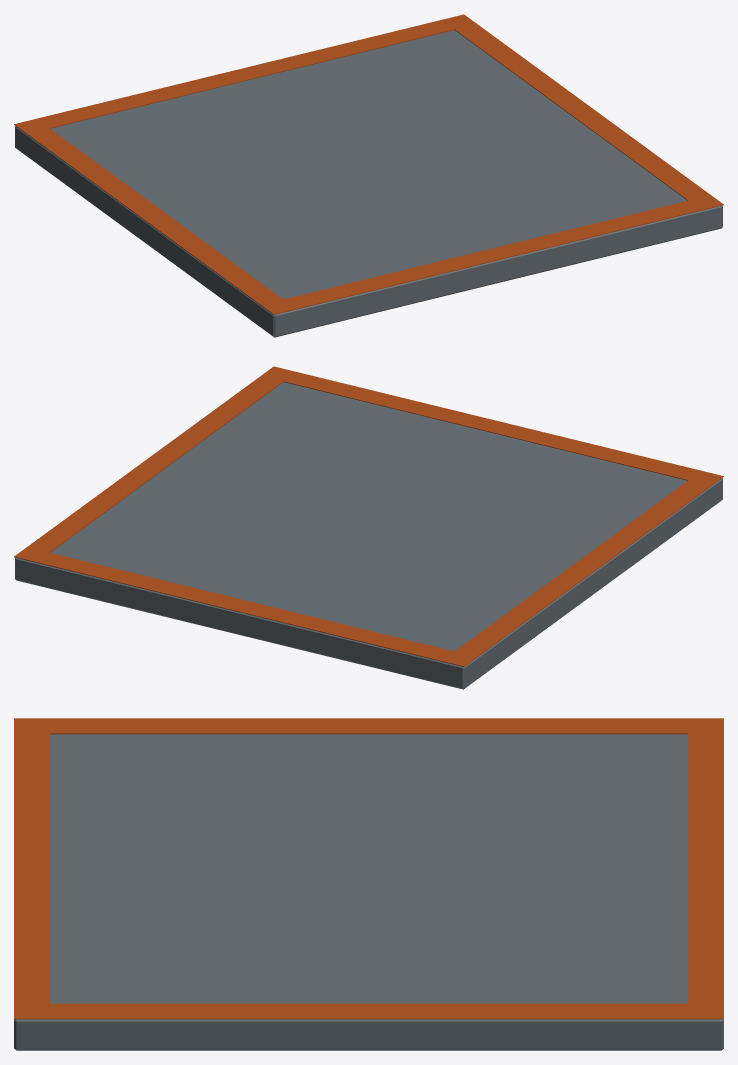
3 renders of one model, top to bottom at view 1: azimuth 30°, elevation 25°; view 2: azimuth 150°, elevation 25°; view 3: azimuth 270°, elevation 25°, orthographic. The views are drawn at different scales.
Visible parts, largest first — view 1: TY_PF_0_15; view 2: TY_PF_0_15; view 3: TY_PF_0_15.
Part boxes in pixels (box(x1,y1,x2,y2)): TY_PF_0_15: box(14, 14, 723, 337); TY_PF_0_15: box(14, 366, 723, 689); TY_PF_0_15: box(14, 718, 723, 1050).
Size of the model in its own units: 3 by 0.154 by 3.
